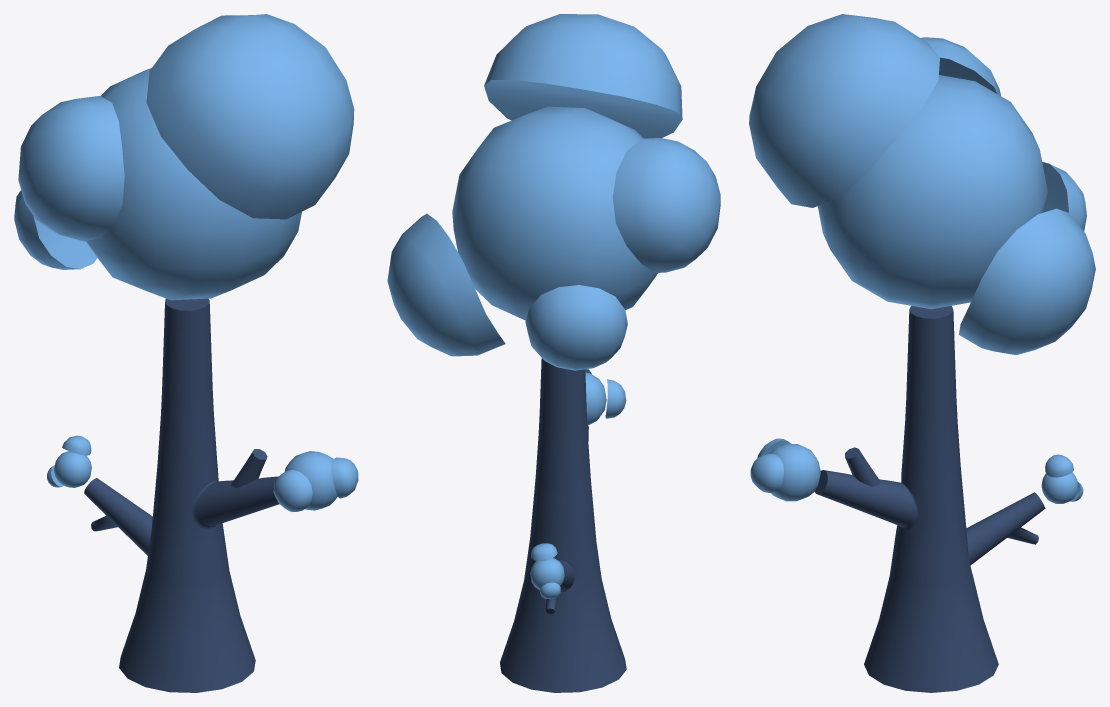
File: deciduousSphereBroken2.glb
3 renders of one model, left to right at view 1: azimuth 30°, elevation 25°; view 2: azimuth 150°, elevation 25°; view 3: azimuth 270°, elevation 25°, orthographic. The views are drawn at different scales.
Parts seen in each view (by area): view 1: trunk, leaves.009, leaves, leaves.007, leaves.010, leaves.001, leaves.003, leaves.002, leaves.004; view 2: leaves, trunk, leaves.009, leaves.007, leaves.008, leaves.010, leaves.001, leaves.002, leaves.003; view 3: trunk, leaves, leaves.009, leaves.008, leaves.001, leaves.007, leaves.010, leaves.004, leaves.002, leaves.006.
Part boxes in pixels (x1,y1,x2,y2): trunk: [84, 298, 279, 692]; leaves.009: [146, 14, 354, 219]; leaves: [86, 68, 301, 300]; leaves.007: [18, 96, 124, 241]; leaves.010: [14, 190, 96, 269]; leaves.001: [284, 451, 337, 510]; leaves.003: [273, 470, 312, 511]; leaves.002: [54, 451, 91, 487]; leaves.004: [331, 457, 358, 498]; leaves: [452, 106, 657, 320]; trunk: [500, 358, 626, 692]; leaves.009: [484, 14, 682, 138]; leaves.007: [612, 138, 720, 272]; leaves.008: [387, 213, 505, 356]; leaves.010: [525, 285, 627, 370]; leaves.001: [585, 372, 606, 425]; leaves.002: [530, 558, 564, 589]; leaves.003: [605, 379, 626, 418]; trunk: [814, 306, 1045, 692]; leaves: [817, 75, 1047, 309]; leaves.009: [749, 14, 939, 207]; leaves.008: [959, 208, 1095, 354]; leaves.001: [769, 443, 820, 501]; leaves.007: [920, 37, 1000, 95]; leaves.010: [1042, 162, 1086, 231]; leaves.004: [750, 453, 783, 493]; leaves.002: [1041, 472, 1078, 503]; leaves.006: [1045, 454, 1073, 477].
Bounding box in the file's own units: 7.21 × 15.48 × 7.51.
Materials: 1 (1 with a texture image).
